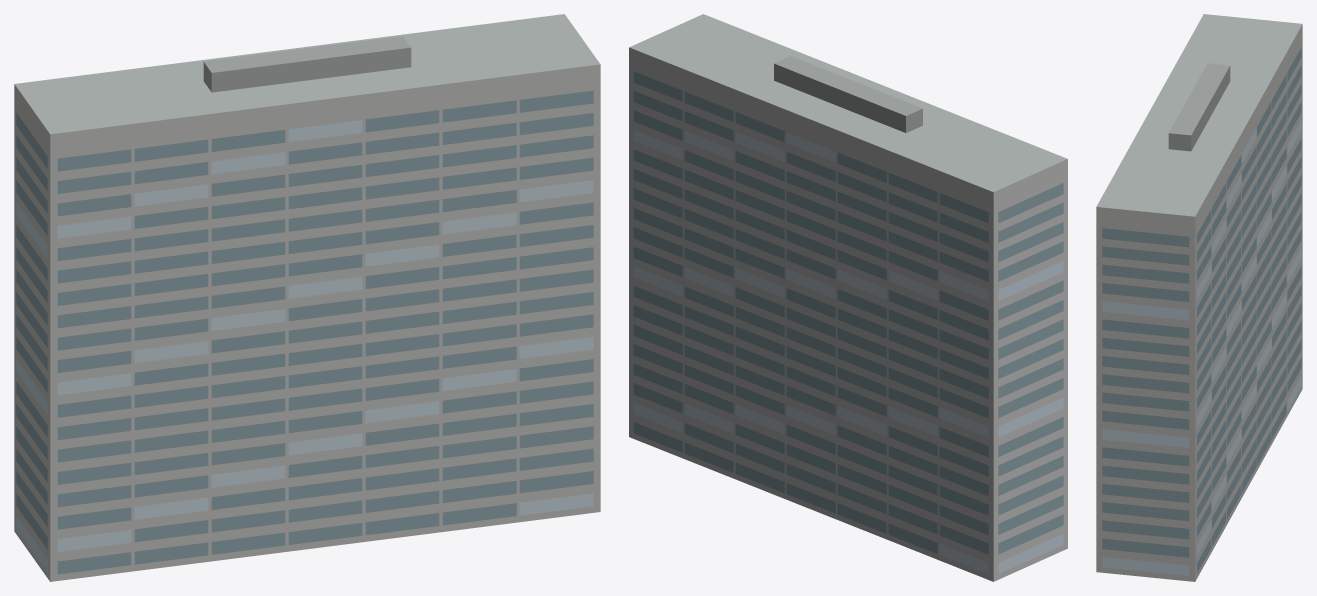
Rendered from fallback-gwanak-dream-town-144.glb.
The picture shows the model from 3 angles, left to right: view 1: azimuth 30°, elevation 25°; view 2: azimuth 150°, elevation 25°; view 3: azimuth 270°, elevation 25°; orthographic projection. The views are drawn at different scales.
Visible parts, largest first — view 1: fallback-gwanak-dream-town-144; view 2: fallback-gwanak-dream-town-144; view 3: fallback-gwanak-dream-town-144.
Part boxes in pixels (x1,y1,x2,y2): fallback-gwanak-dream-town-144: (14,14,600,581); fallback-gwanak-dream-town-144: (629,14,1067,581); fallback-gwanak-dream-town-144: (1096,14,1302,581).
Size of the model in its own units: 65 by 57 by 27.96.
